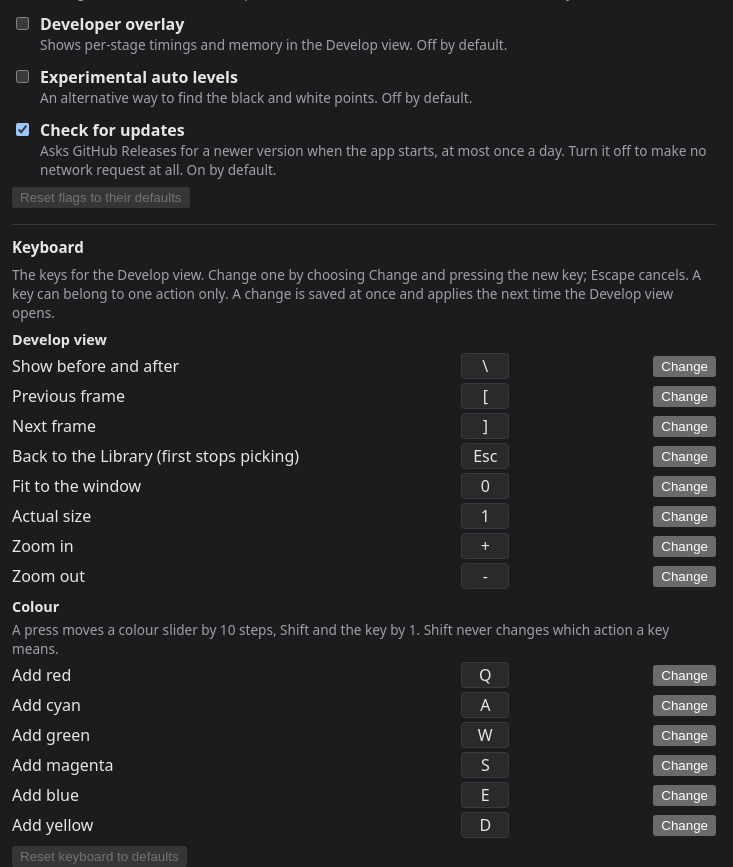
Test case: the Keyboard section of Settings › changing a key › takes the next key pressed, and saves it at once
(page scrolled)
Click the button "Change" in the row of "Add red" at (685, 675), box x1=653 y1=664 x2=716 y2=686
(page scrolled)
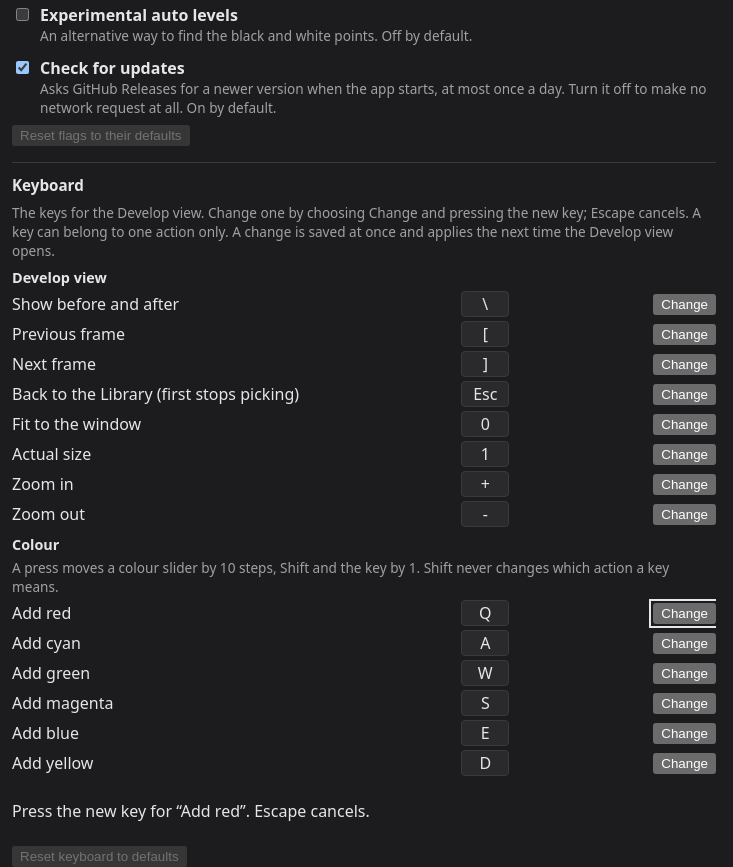
Check: the message shows "Press the new key for “Add red”.", box x1=12 y1=800 x2=370 y2=822
Type keys "r"
(page scrolled)
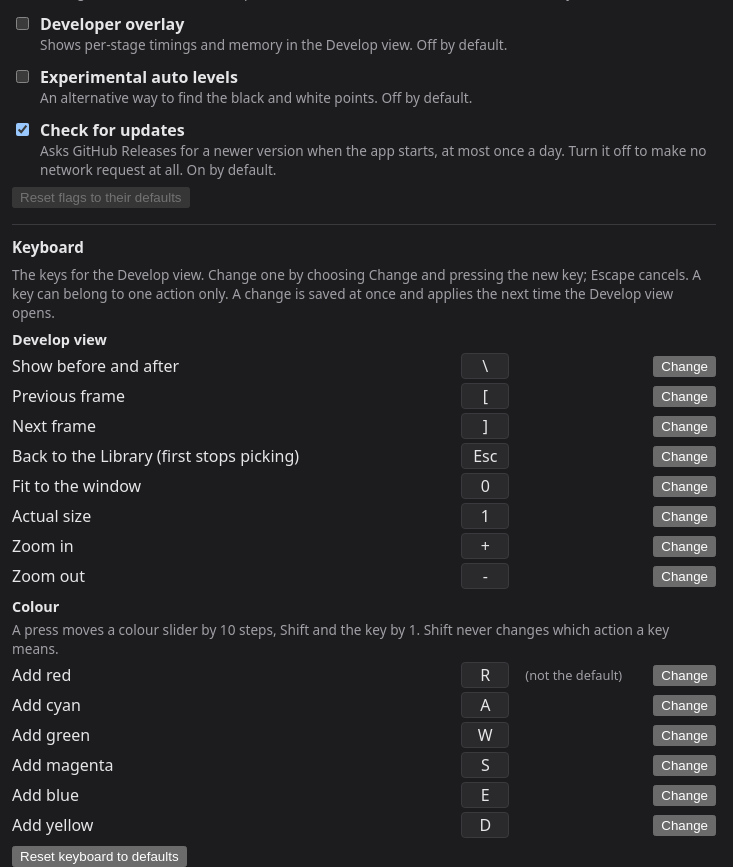
Check: the message "Press the new key for “Add red”. Escape cancels." is gone
Check: the text "(not the default)" is shown once, box x1=525 y1=666 x2=622 y2=684
Check: the button "Reset keyboard to defaults" is enabled, box x1=12 y1=846 x2=187 y2=866
